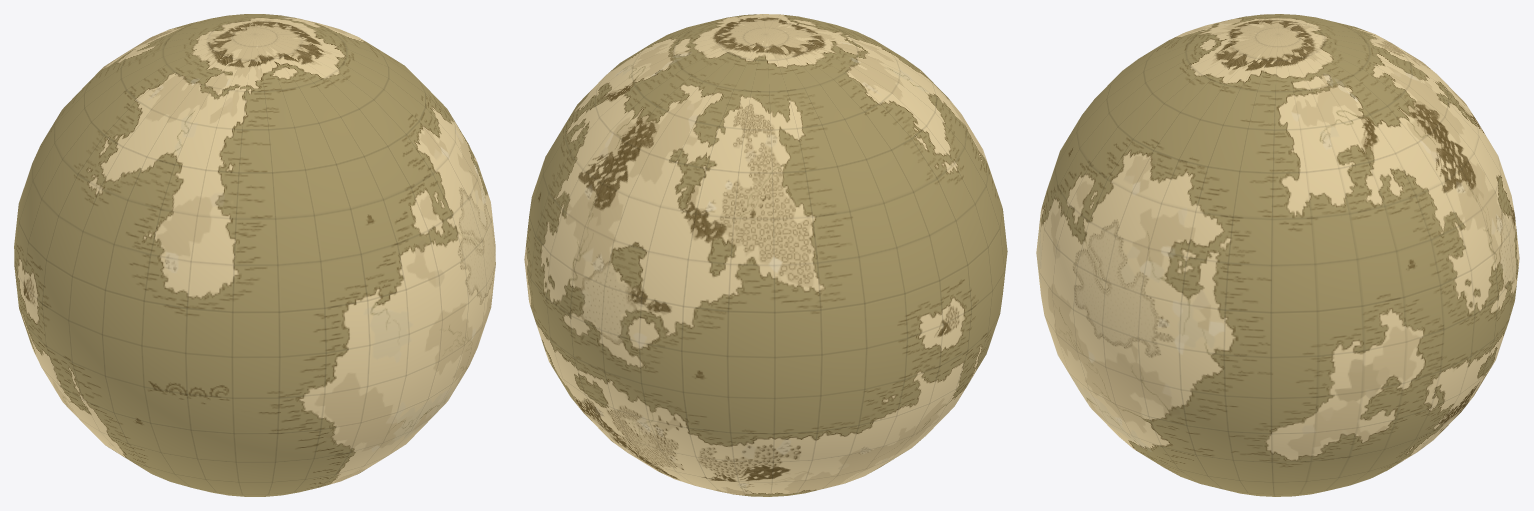
Rendered from map.glb.
3 renders of one model, left to right at view 1: azimuth 30°, elevation 25°; view 2: azimuth 150°, elevation 25°; view 3: azimuth 270°, elevation 25°, orthographic.
Parts seen in each view (by area): view 1: Globe; view 2: Globe; view 3: Globe.
Part boxes in pixels (box(x1,y1,x2,y2)): Globe: box(14, 14, 495, 496); Globe: box(524, 14, 1007, 496); Globe: box(1036, 14, 1519, 496).
Size of the model in its own units: 1.18 by 1.19 by 1.18.
Materials: 1 (1 with a texture image).
